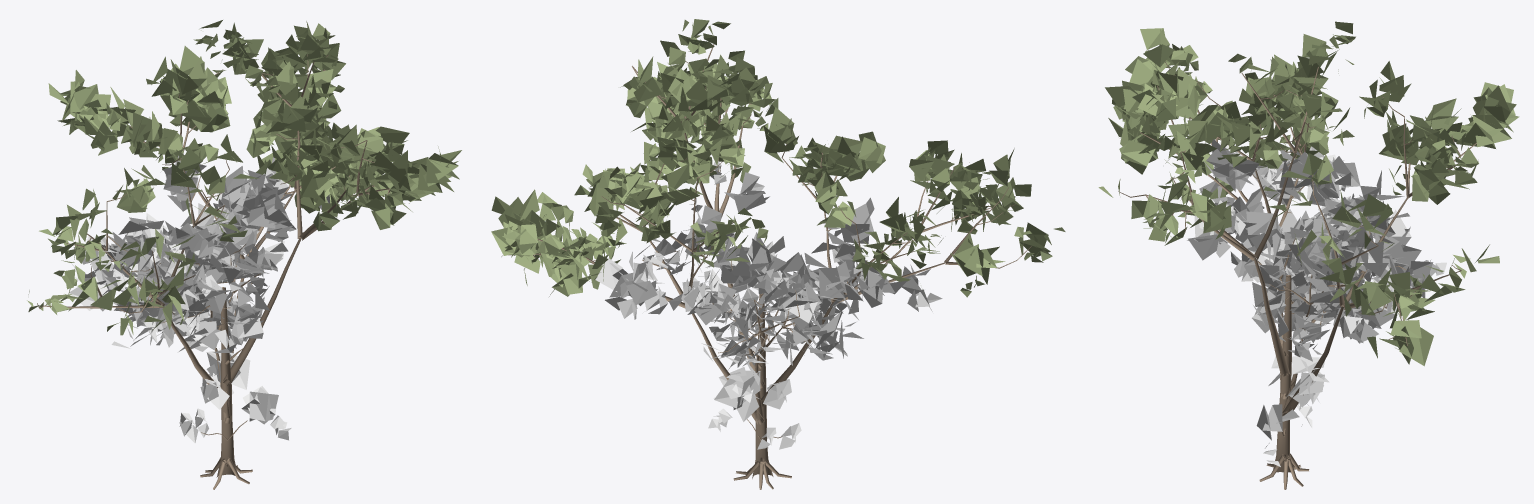
Rendered from tree-d-close.glb.
3 views of the same model, side by side, from view 1: azimuth 30°, elevation 25°; view 2: azimuth 150°, elevation 25°; view 3: azimuth 270°, elevation 25° (orthographic). The views are drawn at different scales.
Visible parts, largest first — view 1: leafB, leafBDeep, wood; view 2: leafB, leafBDeep, wood; view 3: leafB, leafBDeep, wood.
Part boxes in pixels (x1,y1,x2,y2): leafB: (27, 20, 461, 335); leafBDeep: (68, 155, 329, 443); wood: (37, 54, 390, 489); leafB: (491, 19, 1065, 297); leafBDeep: (595, 161, 942, 449); wood: (502, 44, 1031, 489); leafB: (1098, 21, 1519, 366); leafBDeep: (1187, 138, 1446, 466); wood: (1118, 62, 1476, 489).
Bounding box in the file's own units: 10.54 × 9.25 × 7.61.
